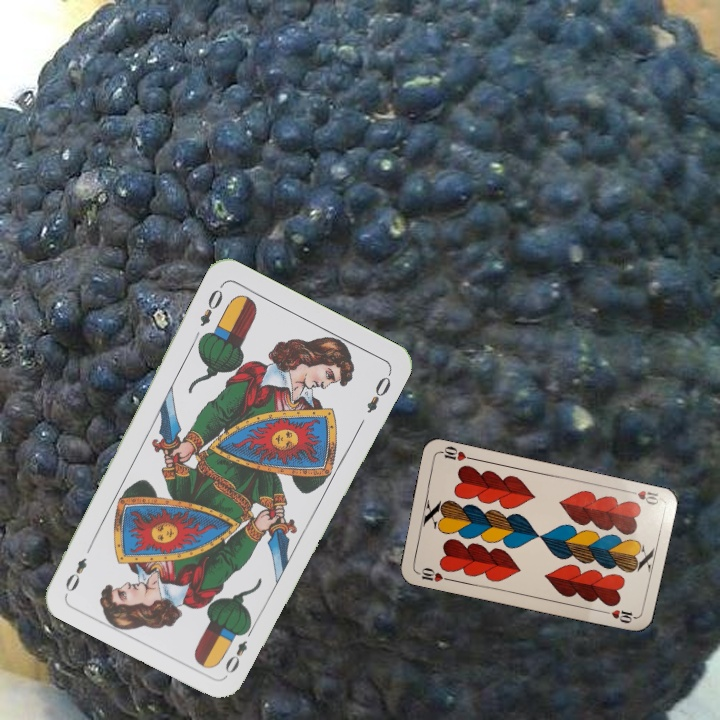EO: (221, 622, 257, 677), (195, 285, 226, 329)
H10: (622, 486, 663, 508), (412, 563, 452, 584)
